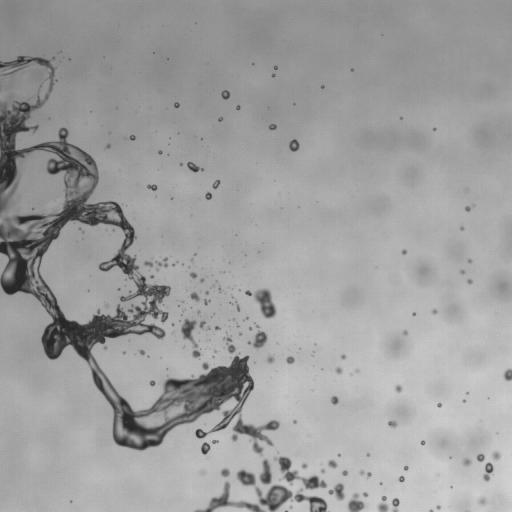droplet: (247, 330, 267, 349), (377, 496, 399, 511), (347, 493, 365, 511), (328, 483, 344, 500), (289, 139, 299, 151), (201, 442, 210, 454), (503, 368, 511, 381), (190, 292, 199, 301), (491, 451, 500, 460), (328, 459, 337, 468), (220, 468, 229, 477), (221, 90, 229, 99), (388, 420, 397, 428), (212, 180, 220, 188), (478, 497, 486, 505), (267, 355, 274, 363), (286, 356, 294, 363), (395, 384, 402, 392), (331, 396, 338, 404), (476, 454, 484, 461), (463, 458, 471, 465), (147, 184, 156, 190), (269, 124, 276, 130), (205, 192, 211, 199), (189, 272, 196, 278), (199, 321, 205, 328), (335, 367, 342, 373), (149, 380, 155, 386), (398, 476, 404, 482), (234, 303, 239, 310), (129, 135, 135, 140), (301, 463, 307, 468), (174, 102, 179, 107), (465, 206, 470, 211), (401, 249, 406, 254), (204, 299, 209, 304), (432, 309, 437, 314), (342, 470, 347, 475), (139, 350, 145, 354), (467, 279, 472, 283), (403, 330, 407, 335), (341, 354, 345, 359), (421, 440, 425, 445), (320, 469, 325, 473), (363, 492, 367, 497), (236, 105, 240, 109), (218, 117, 222, 121), (106, 144, 110, 148), (158, 150, 162, 154), (200, 278, 204, 282), (215, 326, 219, 330), (437, 403, 441, 407), (404, 466, 408, 470), (436, 505, 440, 509), (212, 440, 217, 443), (460, 270, 464, 273), (105, 303, 108, 307), (207, 326, 210, 330), (468, 259, 471, 262), (205, 291, 208, 294), (255, 324, 258, 327), (214, 350, 217, 353), (219, 287, 221, 291), (429, 509, 433, 511), (274, 66, 277, 68), (321, 85, 323, 88), (460, 227, 463, 229), (172, 263, 175, 265), (151, 275, 153, 278), (197, 311, 200, 313), (412, 313, 415, 315), (245, 317, 248, 319), (239, 332, 241, 335), (356, 369, 358, 372), (463, 399, 465, 402), (294, 420, 296, 423), (367, 453, 369, 456), (289, 506, 292, 508), (272, 74, 274, 76), (434, 128, 436, 130), (180, 163, 182, 165), (249, 327, 251, 329)
ligament: (0, 58, 279, 456), (194, 456, 329, 511), (245, 288, 276, 318), (181, 319, 201, 358), (144, 258, 167, 270), (223, 334, 235, 353), (483, 462, 493, 481), (187, 162, 203, 172), (359, 470, 371, 477)
